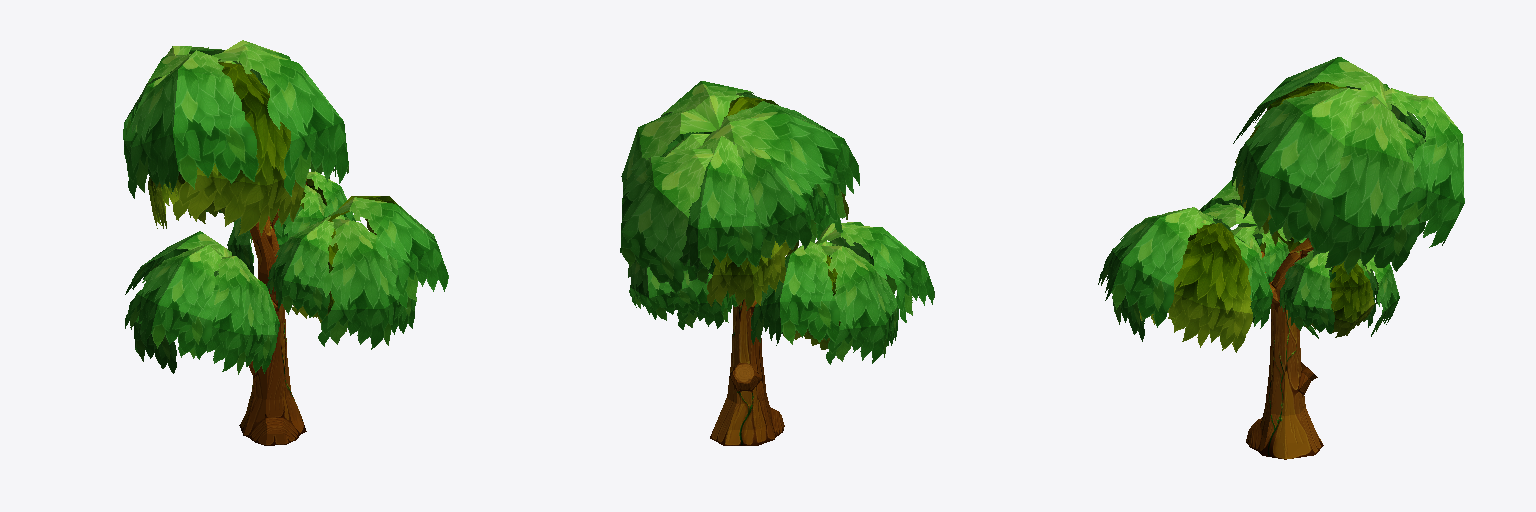
The picture shows the model from 3 angles: view 1: azimuth 30°, elevation 25°; view 2: azimuth 150°, elevation 25°; view 3: azimuth 270°, elevation 25°; orthographic projection.
Visible parts, largest first — view 1: tree02; view 2: tree02; view 3: tree02.
Boxes of the visible parts, <box> form: tree02: <box>123,40,448,445</box>; tree02: <box>620,81,934,445</box>; tree02: <box>1098,57,1464,459</box>.
Bounding box in the file's own units: 3455 × 4196 × 3913.
1 materials, 1 textured.